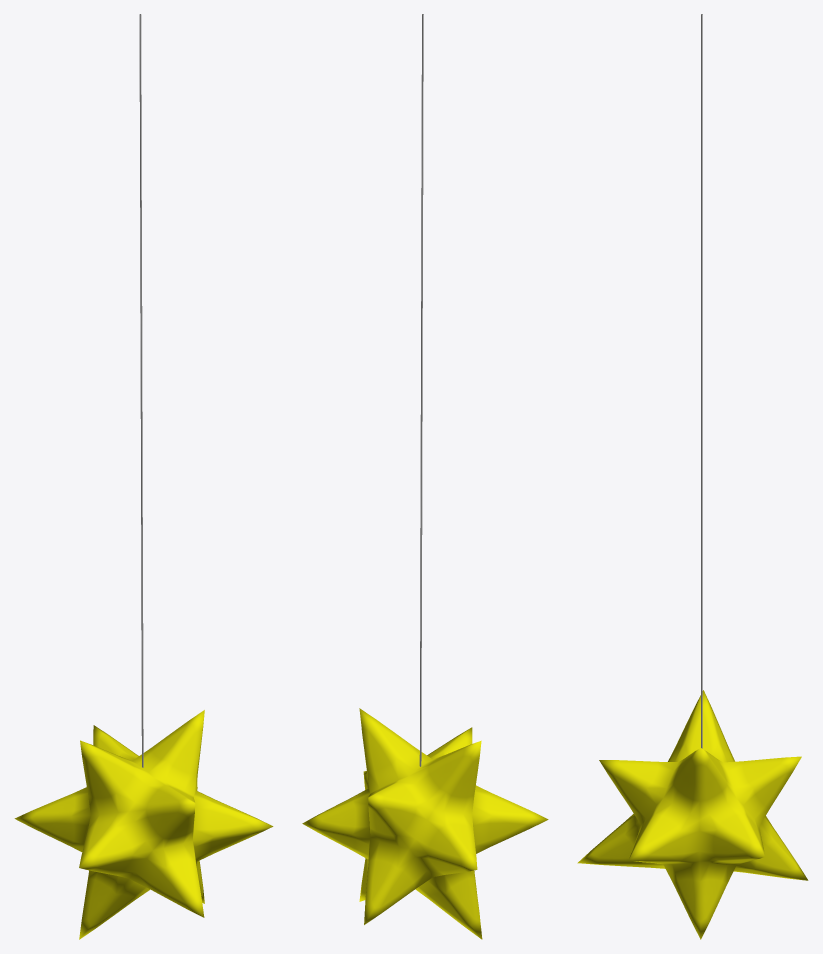
The model's file is Hanging_Star_Yellow.fbx.
The picture shows the model from 3 angles, left to right: view 1: azimuth 30°, elevation 25°; view 2: azimuth 150°, elevation 25°; view 3: azimuth 270°, elevation 25°; orthographic projection.
Visible parts, largest first — view 1: HangingStar_A5, Star_Cable; view 2: HangingStar_A5, Star_Cable; view 3: HangingStar_A5, Star_Cable.
Part boxes in pixels (box(x1,y1,x2,y2)): HangingStar_A5: box(14, 710, 273, 939); Star_Cable: box(139, 14, 143, 767); HangingStar_A5: box(302, 708, 548, 939); Star_Cable: box(419, 14, 423, 766); HangingStar_A5: box(577, 690, 808, 939); Star_Cable: box(701, 14, 702, 748).
Size of the model in its own units: 1.04 by 4.76 by 1.11.
